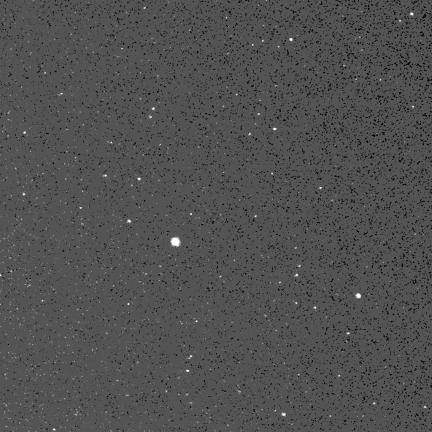blob: (356, 293, 361, 298), (289, 38, 294, 42), (410, 12, 414, 16), (127, 219, 131, 223), (282, 413, 286, 416), (138, 178, 141, 181), (273, 128, 276, 130)
